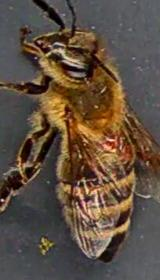varroa_mite: (106, 130, 124, 154)
